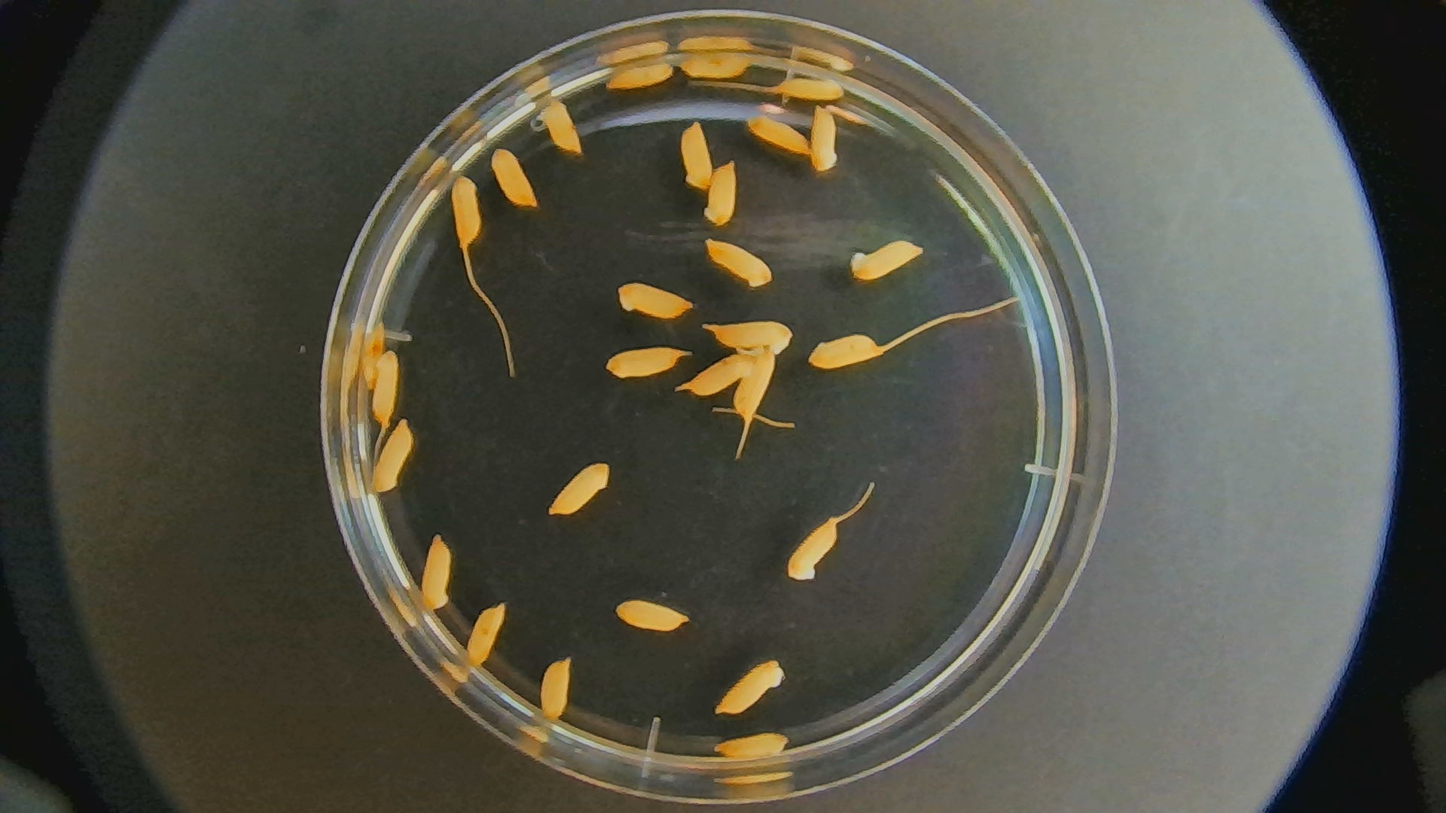no: (782, 507, 844, 586), (708, 654, 784, 716), (687, 350, 764, 399), (701, 318, 795, 357), (613, 277, 696, 321), (704, 236, 773, 288), (548, 461, 612, 516), (528, 98, 586, 158), (849, 239, 929, 281), (369, 422, 417, 492), (609, 594, 689, 636), (463, 598, 509, 671), (739, 112, 815, 155), (600, 343, 693, 377), (733, 352, 777, 423), (417, 531, 455, 611), (489, 147, 538, 209), (712, 729, 789, 766), (701, 161, 742, 225), (806, 334, 880, 368), (677, 120, 713, 188), (448, 172, 480, 247), (773, 75, 849, 106), (535, 656, 569, 723), (677, 51, 754, 80), (809, 103, 840, 174), (602, 59, 672, 89), (373, 352, 398, 431), (360, 319, 384, 391)
